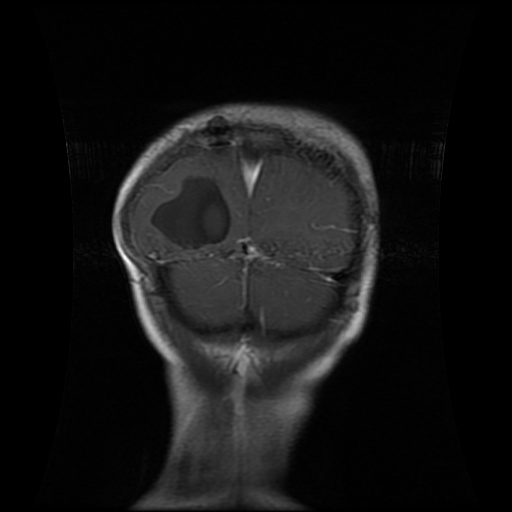glioma: (149, 173, 234, 251)
